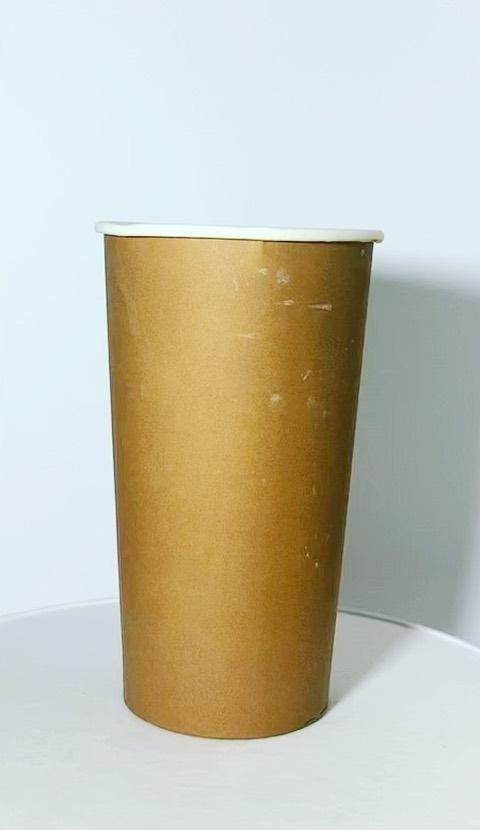cup-disposable: (91, 205, 381, 755)
